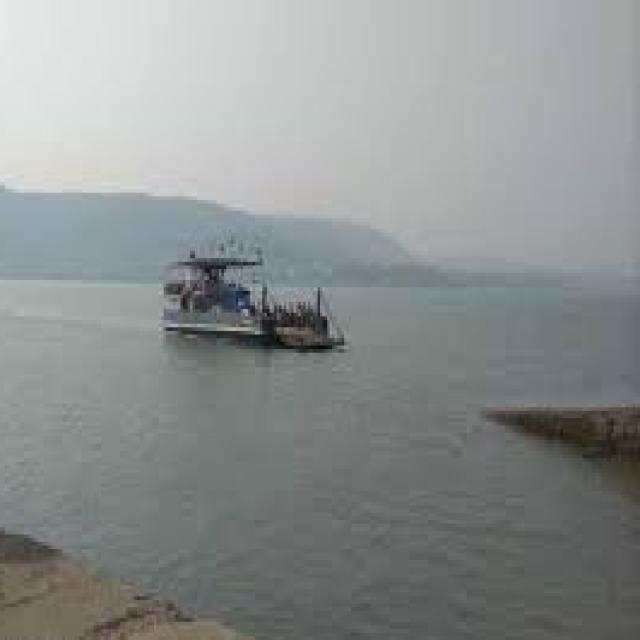fishing boat: (159, 206, 374, 351)
